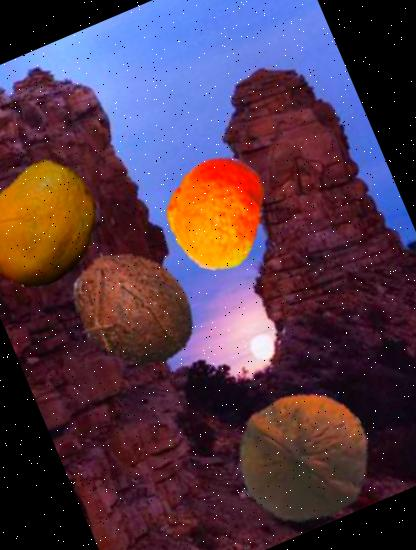Cocos: (49, 223, 221, 395)
Mandarine: (141, 138, 290, 287)
Papaya: (0, 140, 126, 308)
Walnut: (215, 369, 393, 547)
